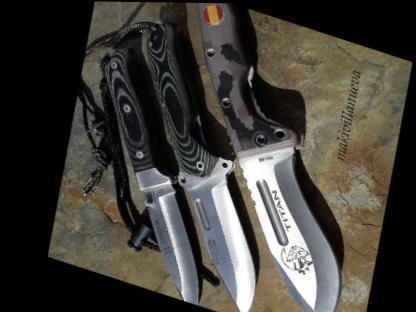knife: (202, 145, 374, 311), (155, 166, 287, 311), (112, 178, 224, 304)
